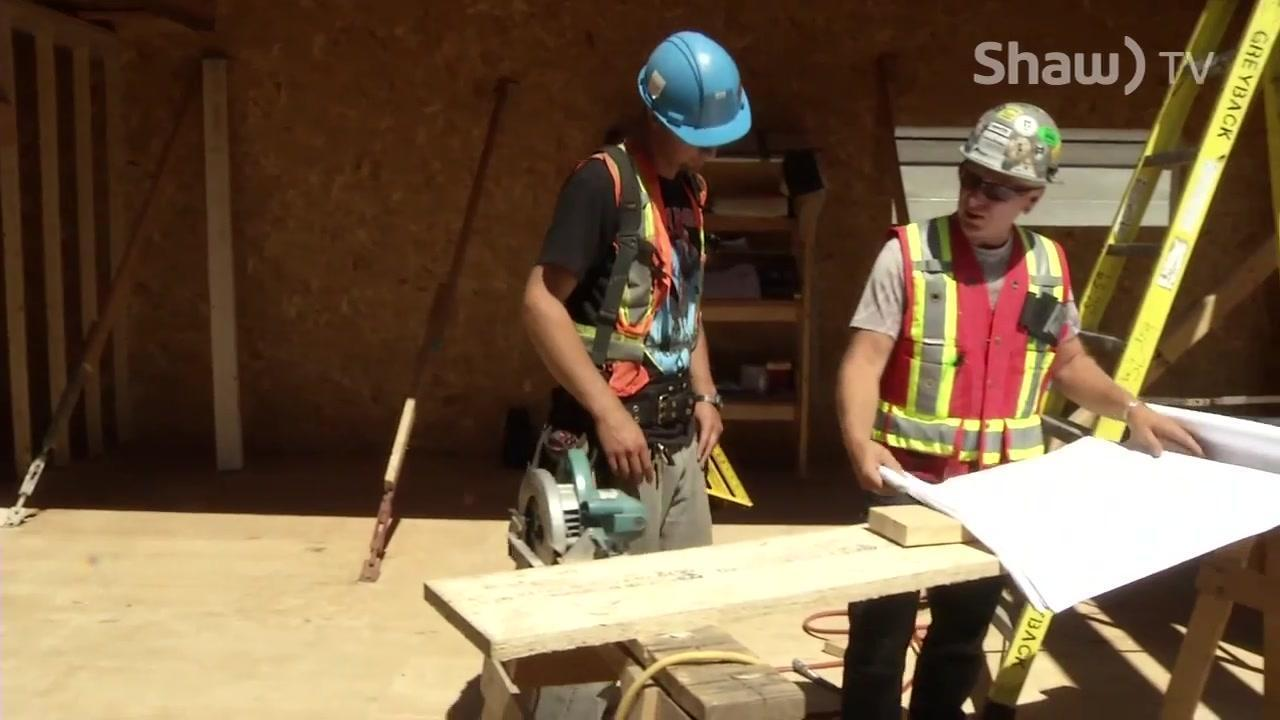vest: (874, 214, 1068, 484), (568, 137, 709, 399)
